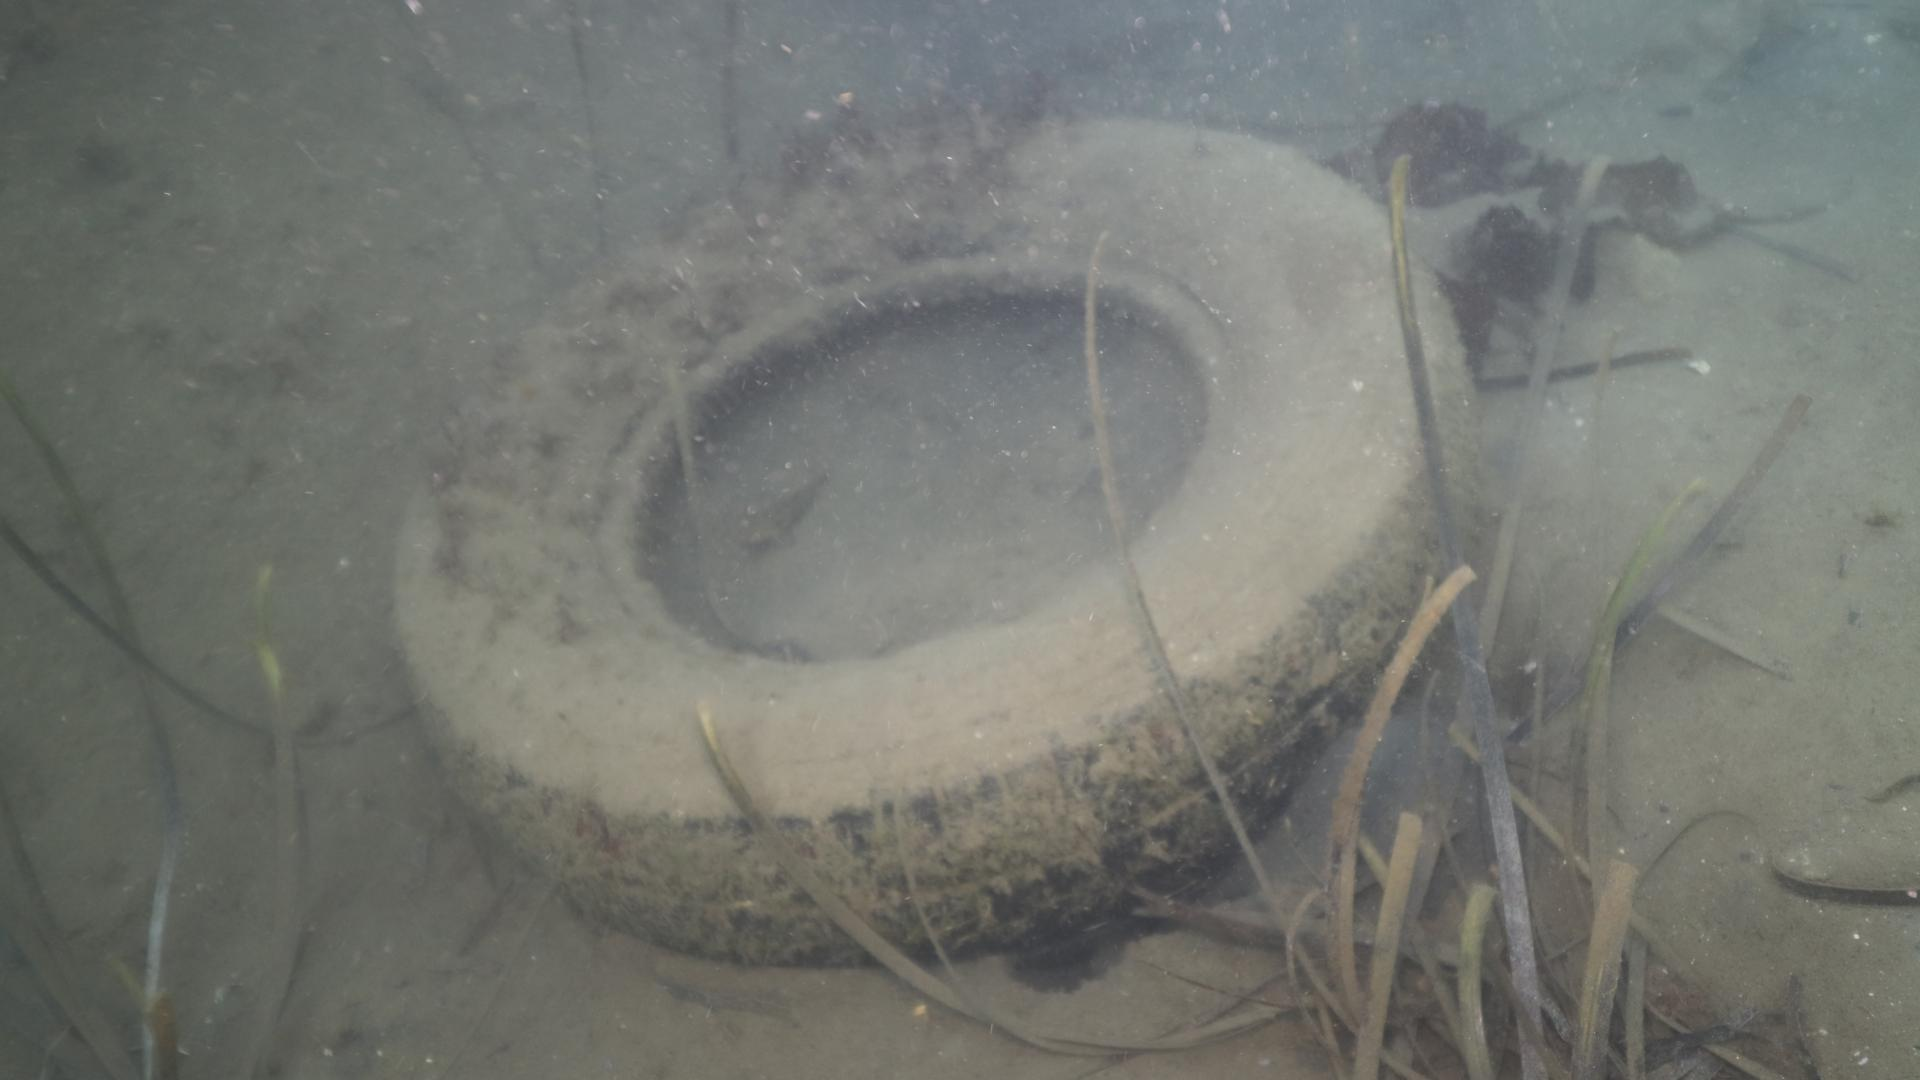tire: (389, 104, 1493, 963)
